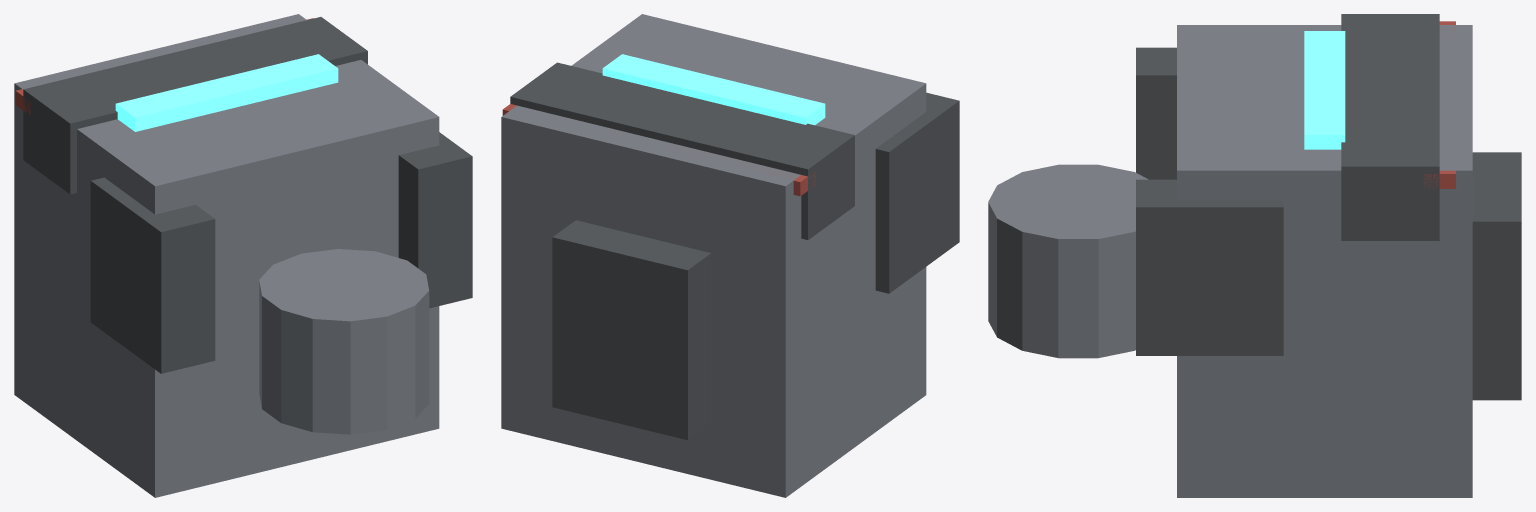
File: head-bruiser.glb
The picture shows the model from 3 angles, left to right: view 1: azimuth 30°, elevation 25°; view 2: azimuth 150°, elevation 25°; view 3: azimuth 270°, elevation 25°; orthographic projection. The views are drawn at different scales.
Parts seen in each view (by area): view 1: cranium, neck, jaw_L, brow, jaw_R, visor; view 2: cranium, vent, brow, jaw_L, visor; view 3: cranium, neck, jaw_R, brow, vent, jaw_L, visor.
Part boxes in pixels (x1,y1,x2,y2): cranium: (14, 14, 439, 497); neck: (259, 249, 429, 434); jaw_L: (90, 177, 215, 373); brow: (23, 17, 367, 194); jaw_R: (398, 132, 472, 308); visor: (115, 54, 338, 131); cranium: (501, 14, 926, 497); vent: (552, 220, 711, 440); brow: (510, 62, 854, 239); jaw_L: (875, 92, 959, 293); visor: (602, 54, 825, 125); cranium: (1177, 25, 1472, 497); neck: (988, 164, 1148, 358); jaw_R: (1136, 179, 1283, 355); brow: (1341, 14, 1439, 240); vent: (1472, 152, 1521, 400); jaw_L: (1136, 47, 1176, 179); visor: (1304, 31, 1345, 149).
Size of the model in its own units: 0.46 by 0.46 by 0.65.
